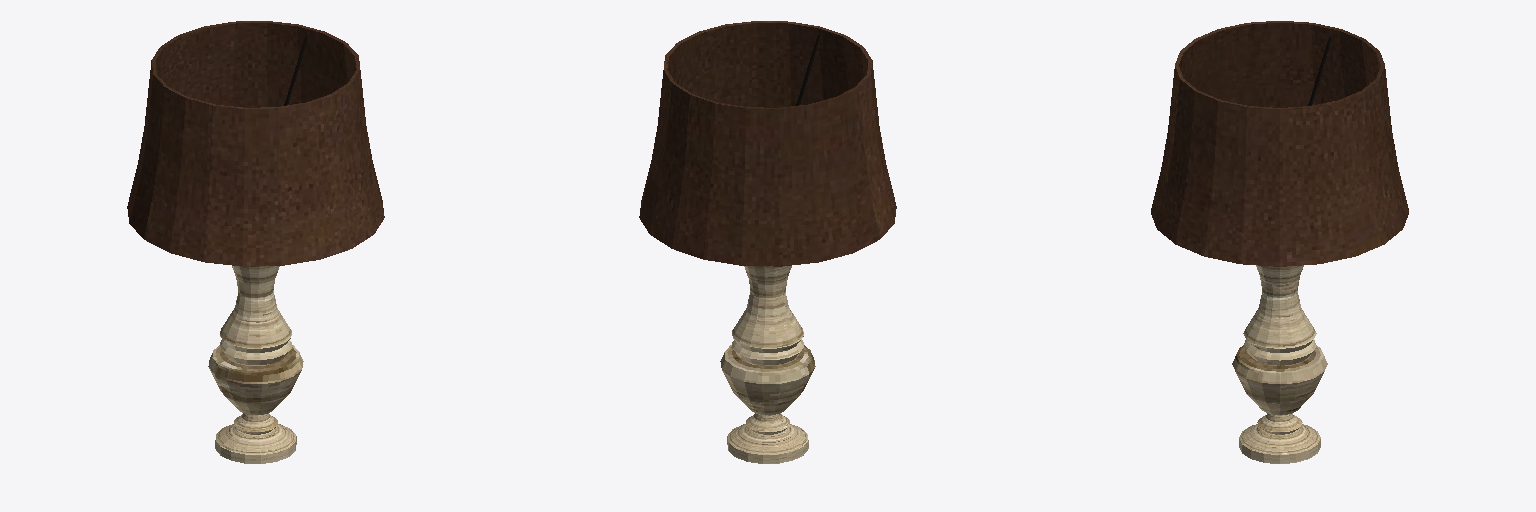
The picture shows the model from 3 angles: view 1: azimuth 30°, elevation 25°; view 2: azimuth 150°, elevation 25°; view 3: azimuth 270°, elevation 25°; orthographic projection.
Parts seen in each view (by area): view 1: eb_lamp_01_low_c_low, eb_lamp_01_low_b_low; view 2: eb_lamp_01_low_c_low, eb_lamp_01_low_b_low; view 3: eb_lamp_01_low_c_low, eb_lamp_01_low_b_low.
Boxes of the visible parts, box(x1,y1,x2,y2) form: eb_lamp_01_low_c_low: box(127, 21, 384, 266); eb_lamp_01_low_b_low: box(208, 266, 303, 463); eb_lamp_01_low_c_low: box(639, 21, 896, 266); eb_lamp_01_low_b_low: box(720, 266, 815, 463); eb_lamp_01_low_c_low: box(1151, 21, 1408, 266); eb_lamp_01_low_b_low: box(1232, 265, 1327, 463).
Size of the model in its own units: 47.81 by 77.83 by 47.81.
1 materials, 1 textured.